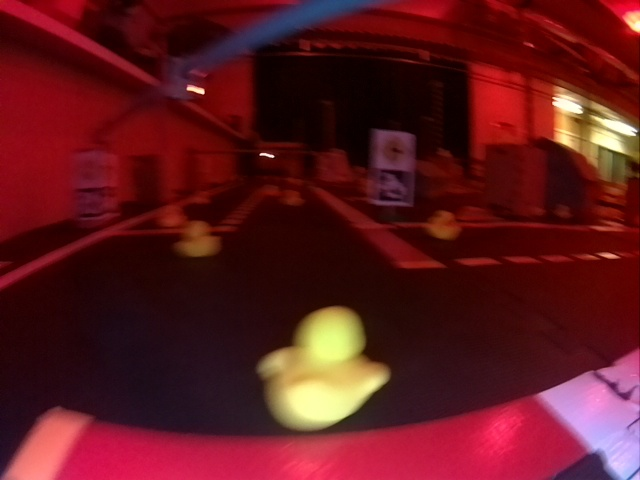Duckie: (257, 307, 390, 423), (174, 221, 220, 257), (430, 209, 463, 240)
Intersection sign: (380, 136, 408, 167)
QR code: (378, 169, 410, 201)
